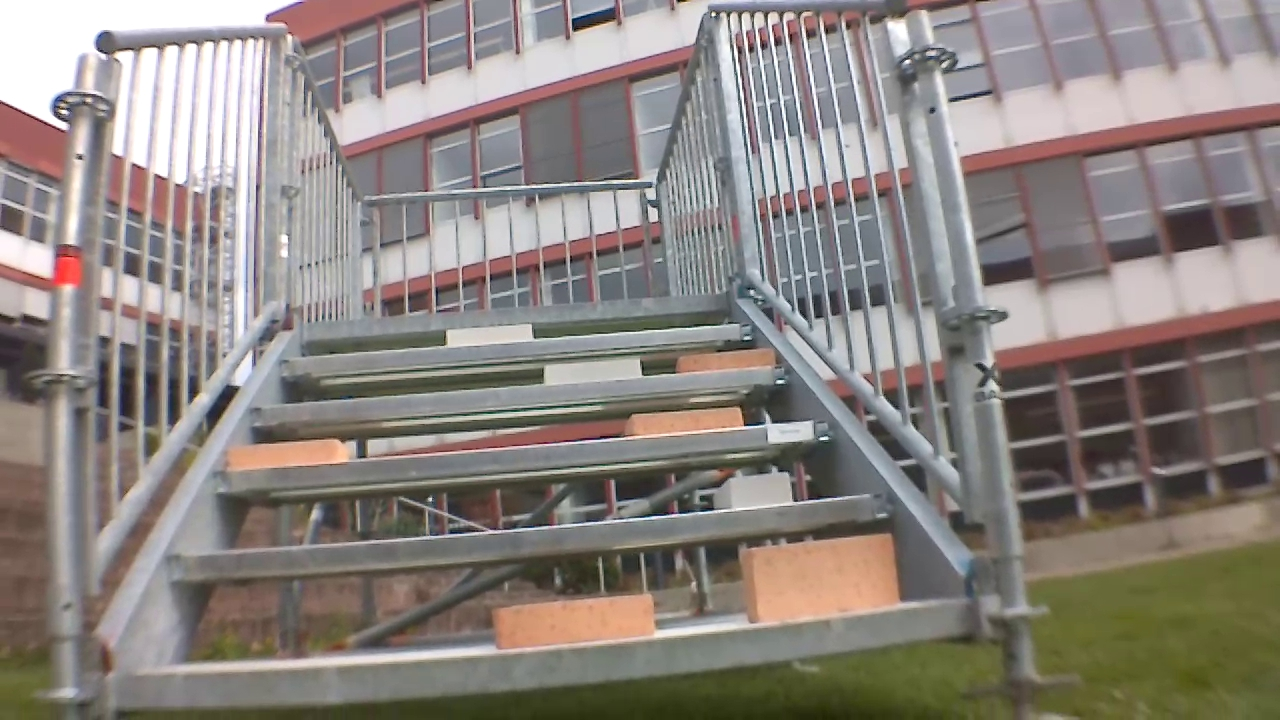brick: (744, 531, 906, 617), (496, 596, 664, 652), (226, 427, 352, 473), (626, 403, 739, 441), (717, 472, 795, 508), (546, 356, 635, 385), (676, 345, 777, 369), (452, 323, 527, 349)
edge: (130, 596, 990, 717), (173, 487, 896, 591), (206, 418, 841, 494), (239, 360, 803, 428), (282, 315, 764, 376), (286, 287, 732, 351)
stairs: (58, 6, 1022, 720)
steps: (107, 295, 1039, 696)
